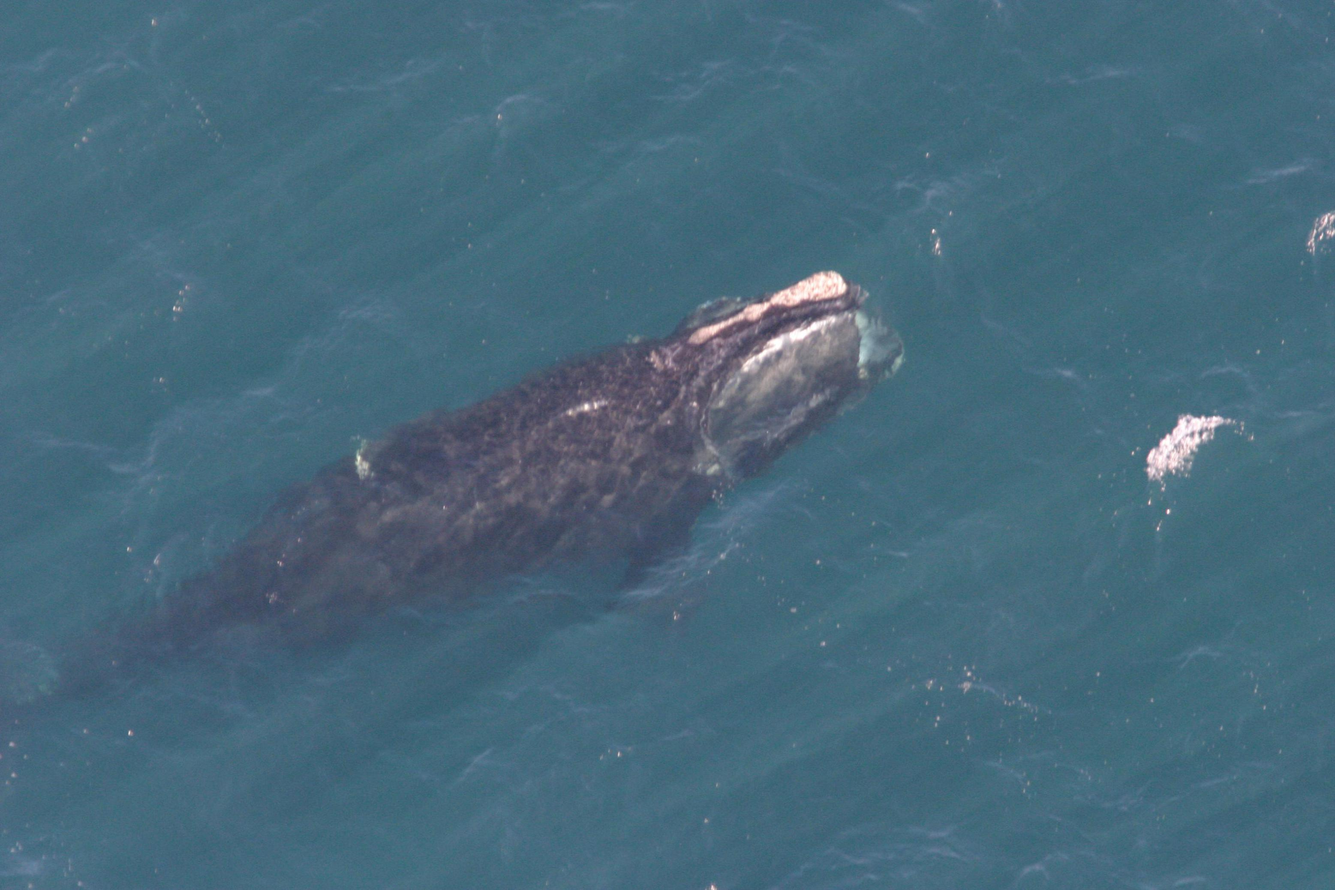whale: (0, 263, 912, 779)
